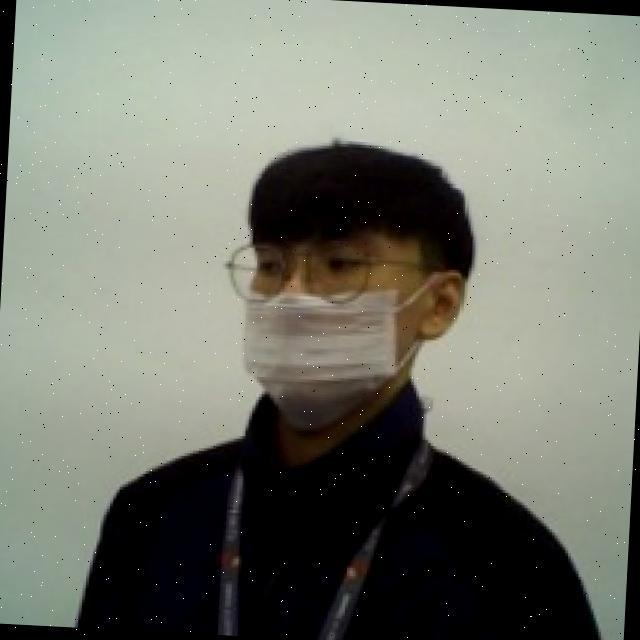mask: (224, 266, 462, 444)
no_gloves: (240, 130, 488, 268)
